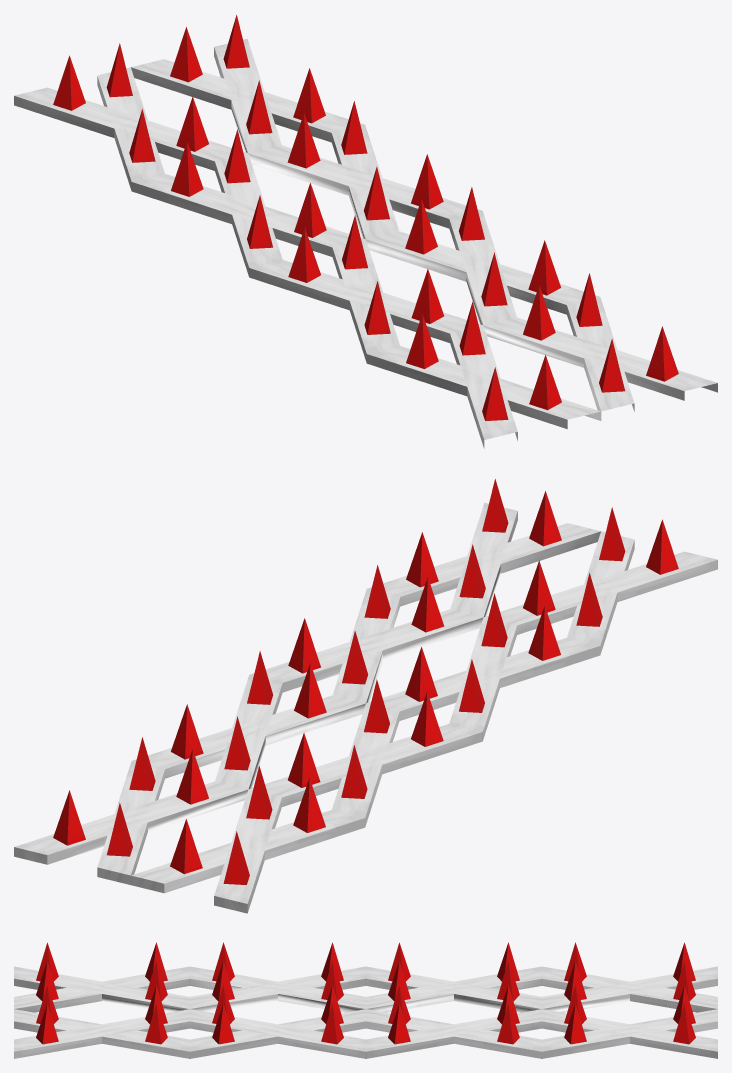
Rendered from stinger.FBX.
3 views of the same model, one above another, from view 1: azimuth 30°, elevation 25°; view 2: azimuth 150°, elevation 25°; view 3: azimuth 270°, elevation 25° (orthographic). The views are drawn at different scales.
Visible parts, largest first — view 1: Base_01, Spikes, Base_02; view 2: Base_01, Spikes, Base_02; view 3: Base_01, Base_02, Spikes.
Part boxes in pixels (bbox=[...]): Base_01: bbox=[14, 39, 717, 448]; Spikes: bbox=[53, 15, 678, 420]; Base_02: bbox=[97, 59, 634, 429]; Base_01: bbox=[14, 503, 717, 913]; Spikes: bbox=[53, 479, 678, 884]; Base_02: bbox=[97, 523, 634, 893]; Base_01: bbox=[14, 966, 717, 1058]; Base_02: bbox=[14, 966, 717, 1058]; Spikes: bbox=[36, 942, 695, 1044].
Size of the model in its own units: 11.47 by 2.75 by 40.
